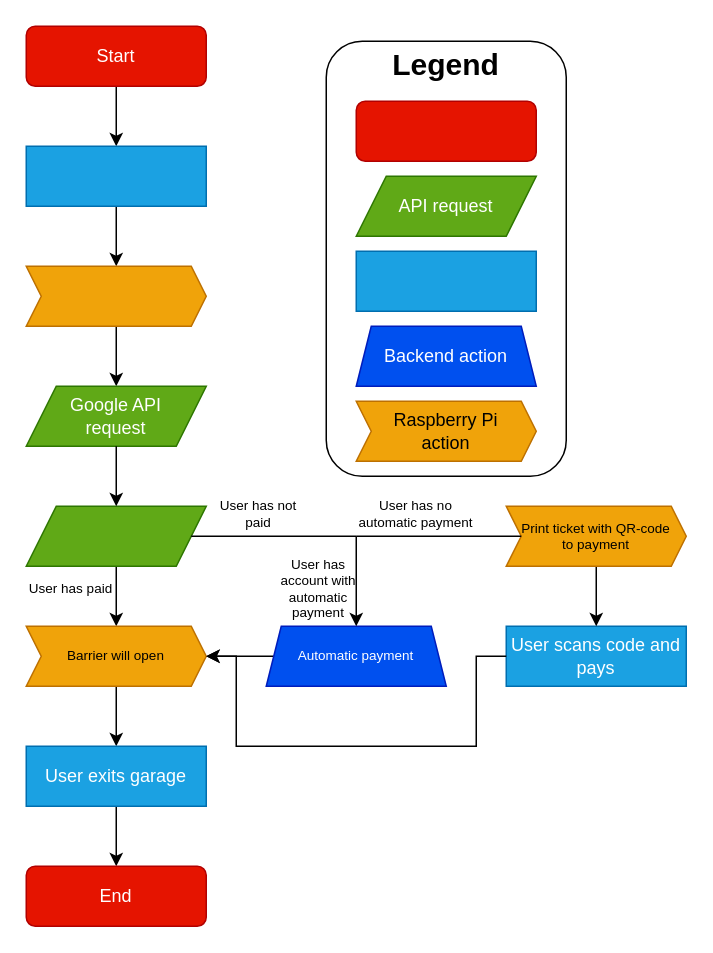
The diagram is 713 pixels wide and 953 high, and some of its shapes have lost their labels. The centre of each missing label's shape, as x and y in pixels:
"api/plate [POST]" belongs at point 115,535.
"Camera takes picture of lience plate" belongs at point 115,295.
"Start/end" belongs at point 445,130.
"User action" belongs at point 445,280.
"User drives to exit barrier" belongs at point 115,175.
